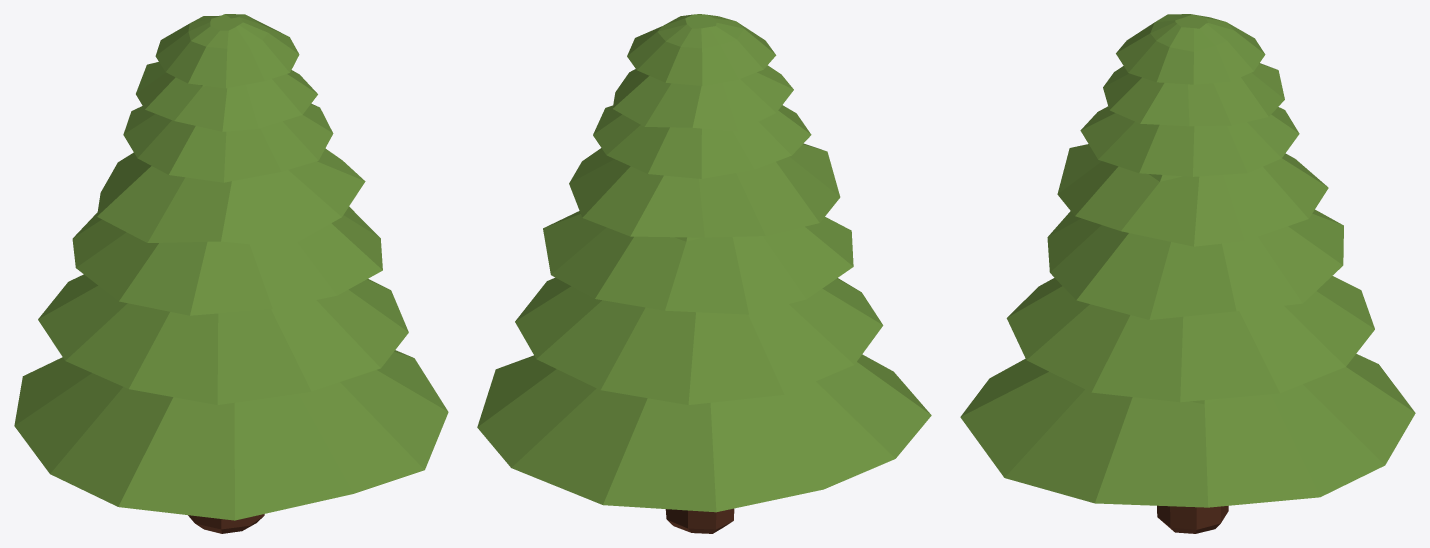
File: tree3_export.fbx
The picture shows the model from 3 angles, left to right: view 1: azimuth 30°, elevation 25°; view 2: azimuth 150°, elevation 25°; view 3: azimuth 270°, elevation 25°; orthographic projection.
Parts seen in each view (by area): view 1: Circle.003; view 2: Circle.003; view 3: Circle.003.
Part boxes in pixels (box(x1,y1,x2,y2)): Circle.003: box(14, 14, 448, 533); Circle.003: box(477, 14, 931, 533); Circle.003: box(960, 14, 1415, 533).
Size of the model in its own units: 680 by 858 by 702.
